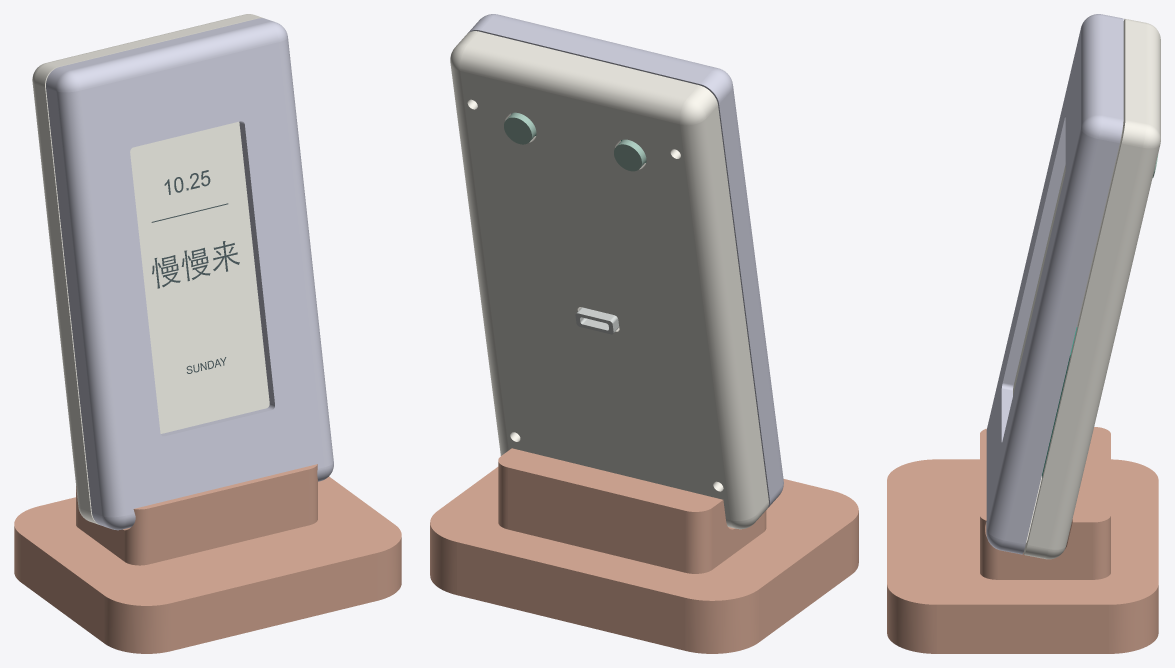
Rendered from 05_彩色查看.glb.
The picture shows the model from 3 angles, left to right: view 1: azimuth 30°, elevation 25°; view 2: azimuth 150°, elevation 25°; view 3: azimuth 270°, elevation 25°; orthographic projection. The views are drawn at different scales.
Parts seen in each view (by area): view 1: FrameFront, Stand, EpaperActive, FrameRear, EpaperGlass, DisplayText11; view 2: FrameRear, Stand, FrameFront, USB_C, RearButton0, RearButton1; view 3: Stand, FrameFront, FrameRear.
Part boxes in pixels (x1,y1,x2,y2): FrameFront: [46, 18, 333, 530]; Stand: [14, 464, 401, 653]; EpaperActive: [130, 122, 267, 431]; FrameRear: [32, 14, 263, 524]; EpaperGlass: [160, 121, 269, 433]; DisplayText11: [152, 241, 239, 288]; FrameRear: [450, 31, 768, 529]; Stand: [430, 448, 858, 653]; FrameFront: [467, 14, 783, 507]; USB_C: [575, 307, 619, 334]; RearButton0: [614, 139, 646, 171]; RearButton1: [504, 112, 536, 144]; Stand: [887, 427, 1158, 653]; FrameFront: [986, 14, 1123, 554]; FrameRear: [1023, 19, 1160, 559].
Bounding box in the file's own units: 0.076 × 0.1268 × 0.0605.
